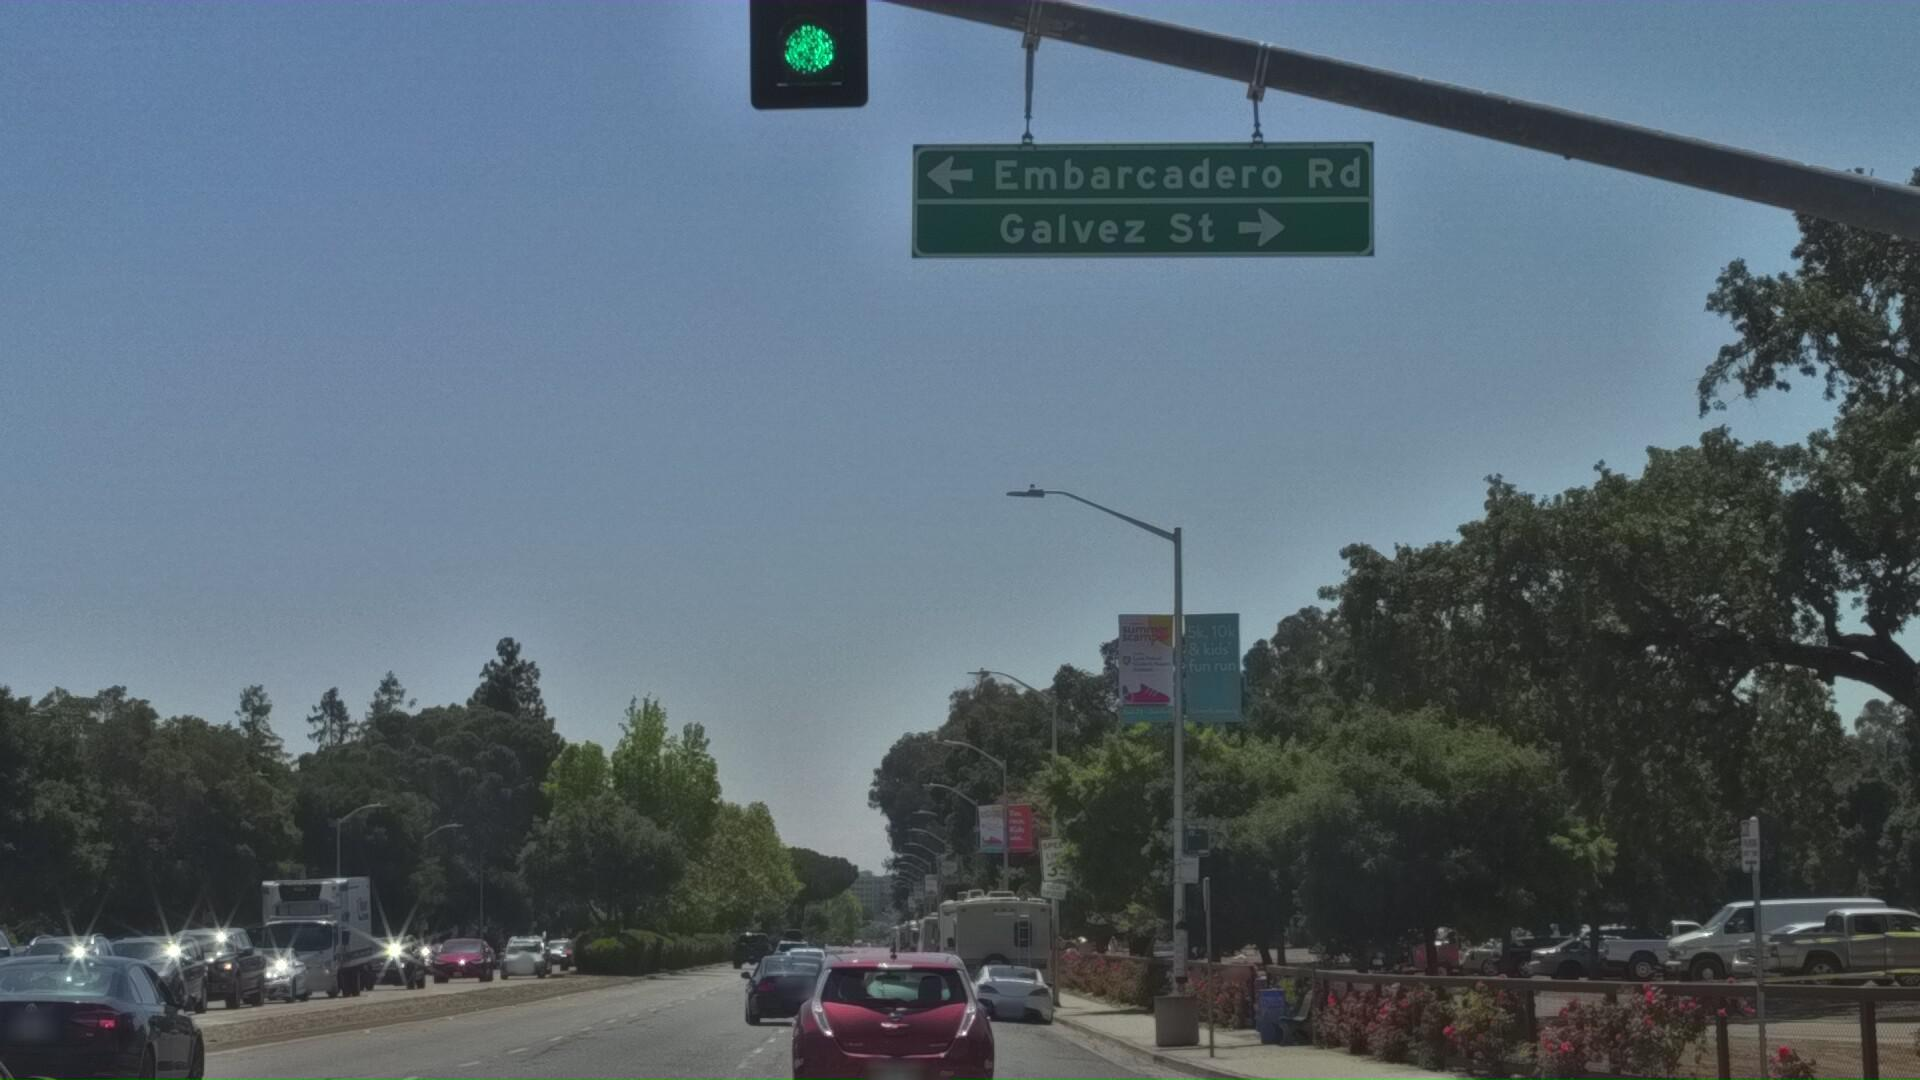car: (787, 967, 1007, 1080), (0, 994, 232, 1080), (0, 957, 156, 1080), (851, 977, 1004, 1080), (745, 975, 851, 1056), (964, 971, 1063, 1047), (0, 978, 38, 1072)
